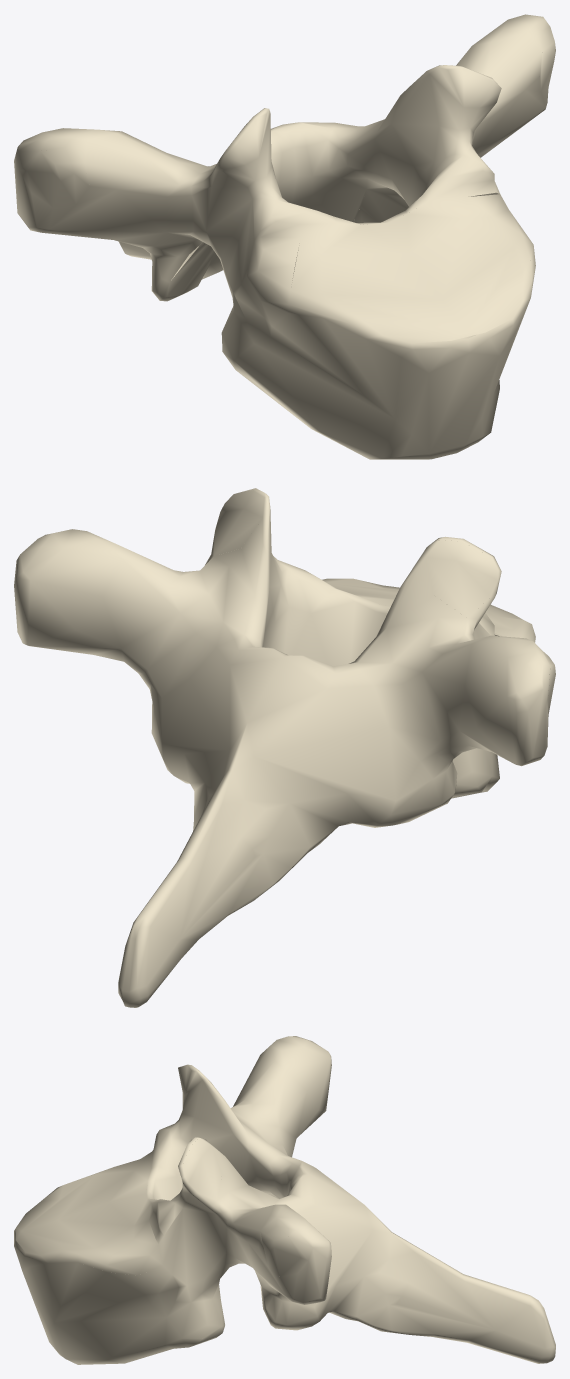
File: esqueleto-vertebra-t3.glb
3 views of the same model, one above another, from view 1: azimuth 30°, elevation 25°; view 2: azimuth 150°, elevation 25°; view 3: azimuth 270°, elevation 25° (orthographic). The views are drawn at different scales.
Visible parts, largest first — view 1: Vertebra T3; view 2: Vertebra T3; view 3: Vertebra T3.
Boxes of the visible parts, x1=… form: Vertebra T3: x1=14, y1=14, x2=555, y2=459; Vertebra T3: x1=14, y1=488, x2=555, y2=1007; Vertebra T3: x1=14, y1=1036, x2=555, y2=1364.
Bounding box in the file's own units: 0.0689 × 0.0413 × 0.0778.
